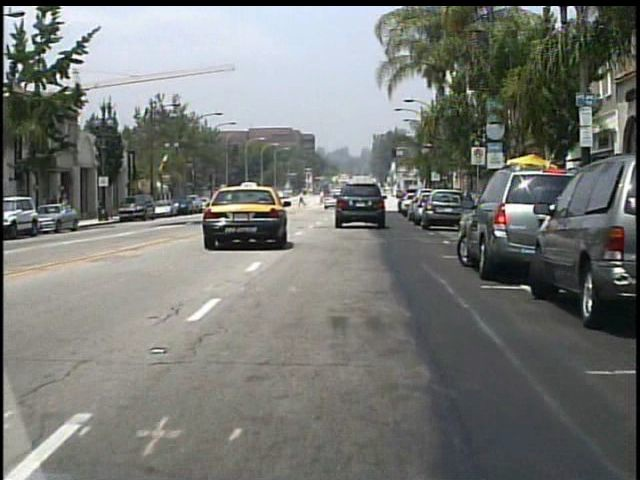person: (48, 192, 63, 225), (62, 193, 74, 223), (318, 189, 326, 208), (299, 191, 306, 208)
